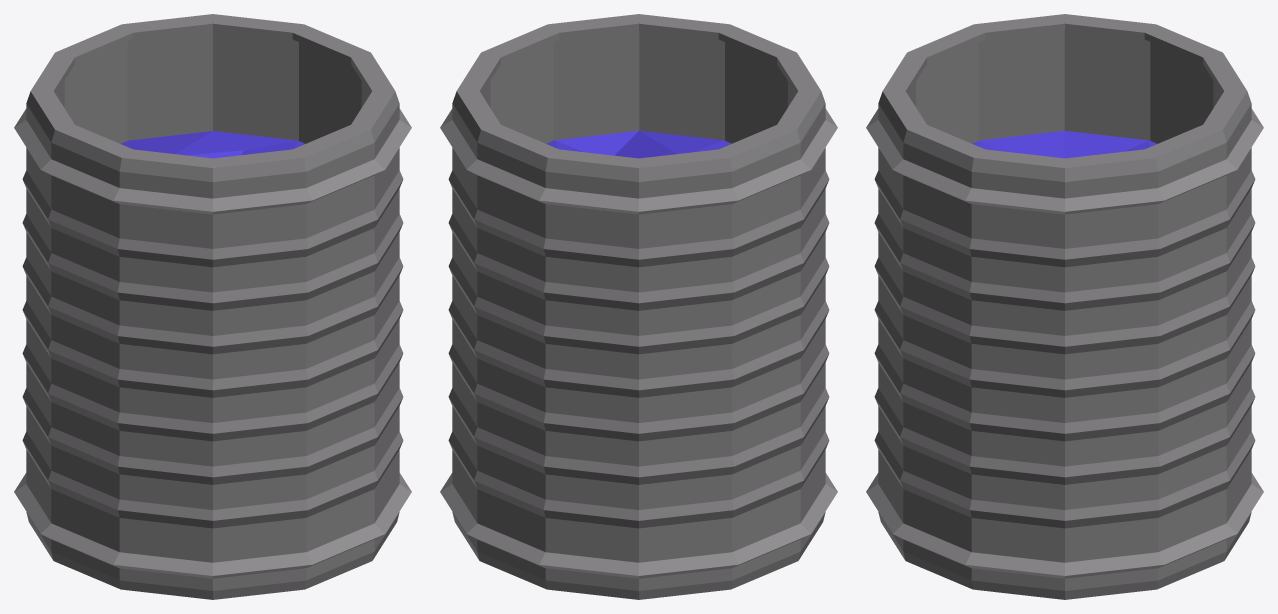
Rendered from paintcan_2.glb.
3 renders of one model, left to right at view 1: azimuth 30°, elevation 25°; view 2: azimuth 150°, elevation 25°; view 3: azimuth 270°, elevation 25°, orthographic.
Parts seen in each view (by area): view 1: Paintcan; view 2: Paintcan; view 3: Paintcan.
Boxes of the visible parts, x1=… form: Paintcan: x1=14, y1=14, x2=411, y2=599; Paintcan: x1=440, y1=14, x2=837, y2=599; Paintcan: x1=866, y1=14, x2=1263, y2=599.
Size of the model in its own units: 0.2949 by 0.3525 by 0.2949.
